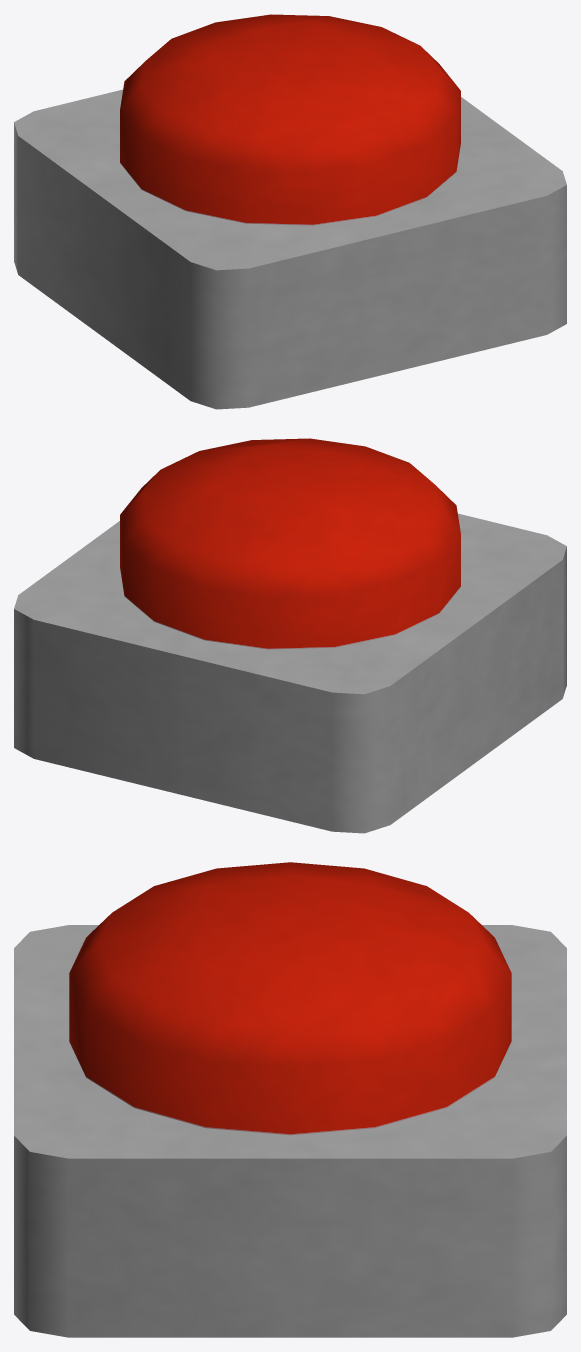
Rendered from Button.fbx.
3 views of the same model, one above another, from view 1: azimuth 30°, elevation 25°; view 2: azimuth 150°, elevation 25°; view 3: azimuth 270°, elevation 25° (orthographic). The views are drawn at different scales.
Parts seen in each view (by area): view 1: ButtonBottom.001, ButtonTop; view 2: ButtonBottom.001, ButtonTop; view 3: ButtonBottom.001, ButtonTop.
Part boxes in pixels (<box>): ButtonBottom.001: <box>14,89,566,409</box>; ButtonTop: <box>120,14,460,225</box>; ButtonBottom.001: <box>14,513,566,833</box>; ButtonTop: <box>120,438,460,649</box>; ButtonBottom.001: <box>14,925,566,1337</box>; ButtonTop: <box>69,862,511,1135</box>.
Size of the model in its own units: 20 by 12.32 by 20.
